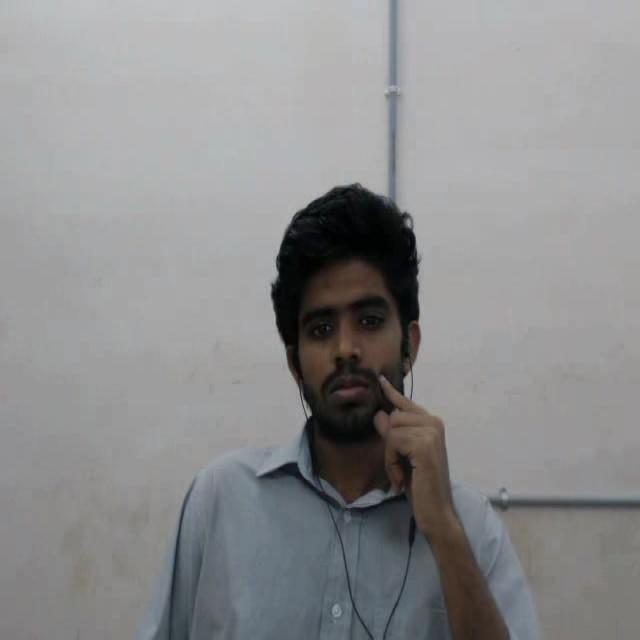Bored: (236, 177, 458, 464)
